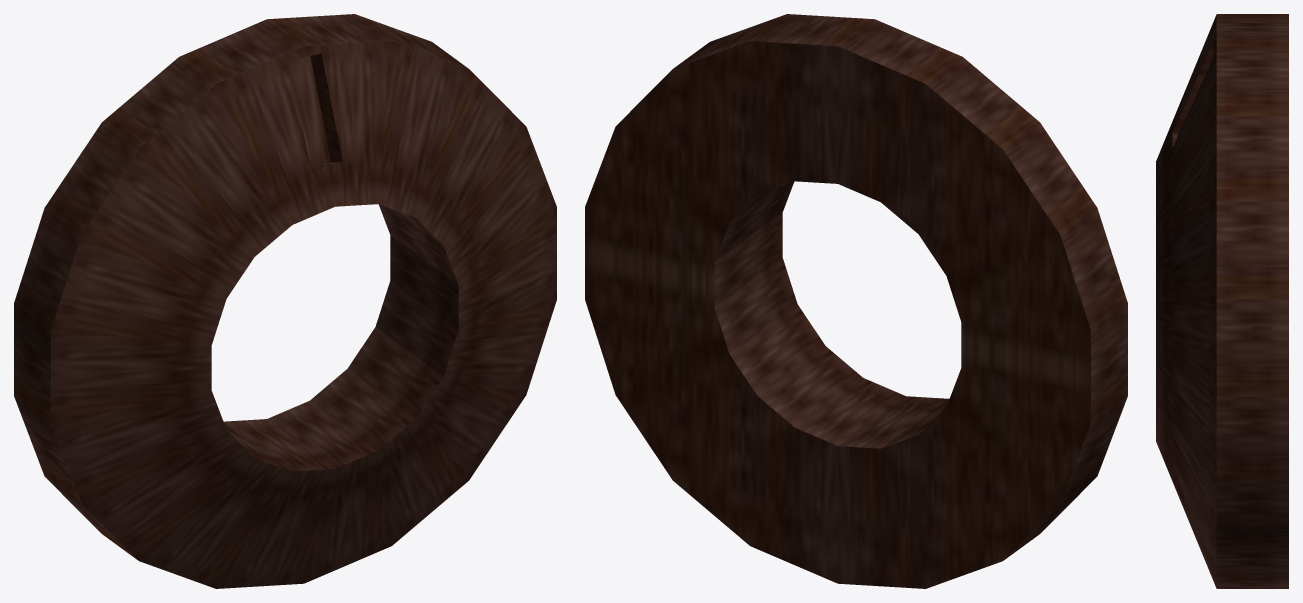
The model's file is original-58.obj.
3 views of the same model, side by side, from view 1: azimuth 30°, elevation 25°; view 2: azimuth 150°, elevation 25°; view 3: azimuth 270°, elevation 25° (orthographic). The views are drawn at different scales.
Parts seen in each view (by area): view 1: Group_1/mesh134/mesh134-geometry#mesh134-geometry; view 2: Group_1/mesh134/mesh134-geometry#mesh134-geometry; view 3: Group_1/mesh134/mesh134-geometry#mesh134-geometry.
Boxes of the visible parts, bbox=[...] form: Group_1/mesh134/mesh134-geometry#mesh134-geometry: bbox=[14, 14, 556, 588]; Group_1/mesh134/mesh134-geometry#mesh134-geometry: bbox=[585, 14, 1127, 588]; Group_1/mesh134/mesh134-geometry#mesh134-geometry: bbox=[1156, 14, 1288, 588].
Bounding box in the file's own units: 0.0928 × 0.0943 × 0.0217.
